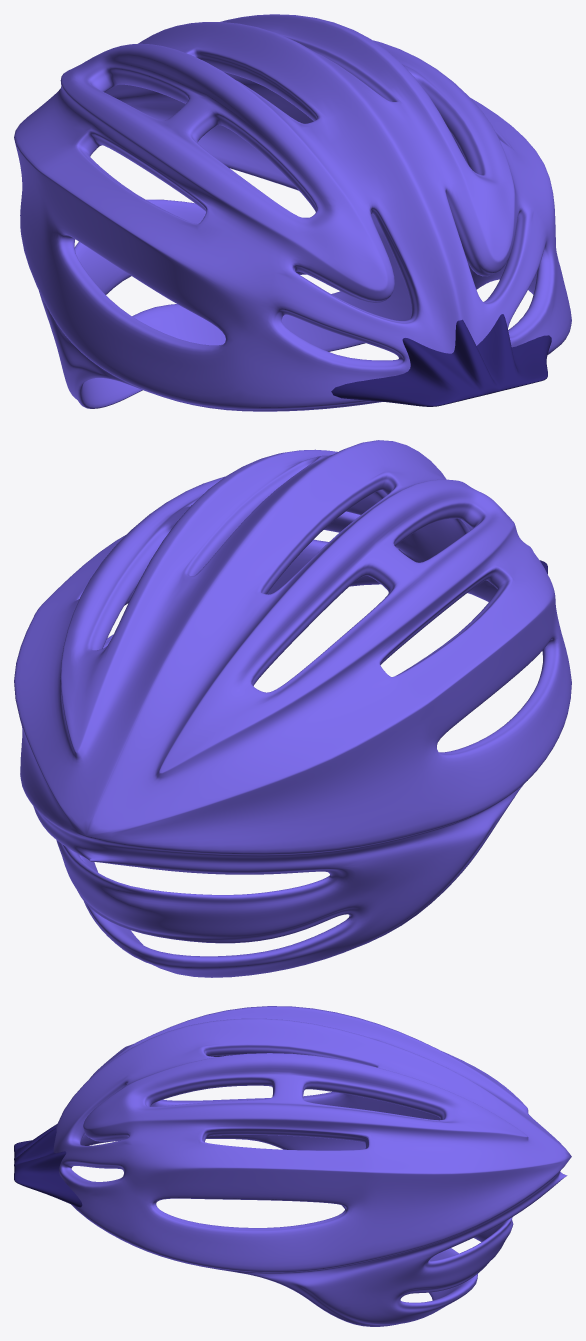
File: helmet2.glb
3 renders of one model, top to bottom at view 1: azimuth 30°, elevation 25°; view 2: azimuth 150°, elevation 25°; view 3: azimuth 270°, elevation 25°, orthographic. The views are drawn at different scales.
Parts seen in each view (by area): view 1: 11723_helmet_sg; view 2: 11723_helmet_sg; view 3: 11723_helmet_sg.
Part boxes in pixels (<box>): 11723_helmet_sg: <box>14,14,571,411</box>; 11723_helmet_sg: <box>14,440,571,977</box>; 11723_helmet_sg: <box>14,1006,571,1326</box>.
Size of the model in its own units: 0.1521 by 0.1423 by 0.2539.
